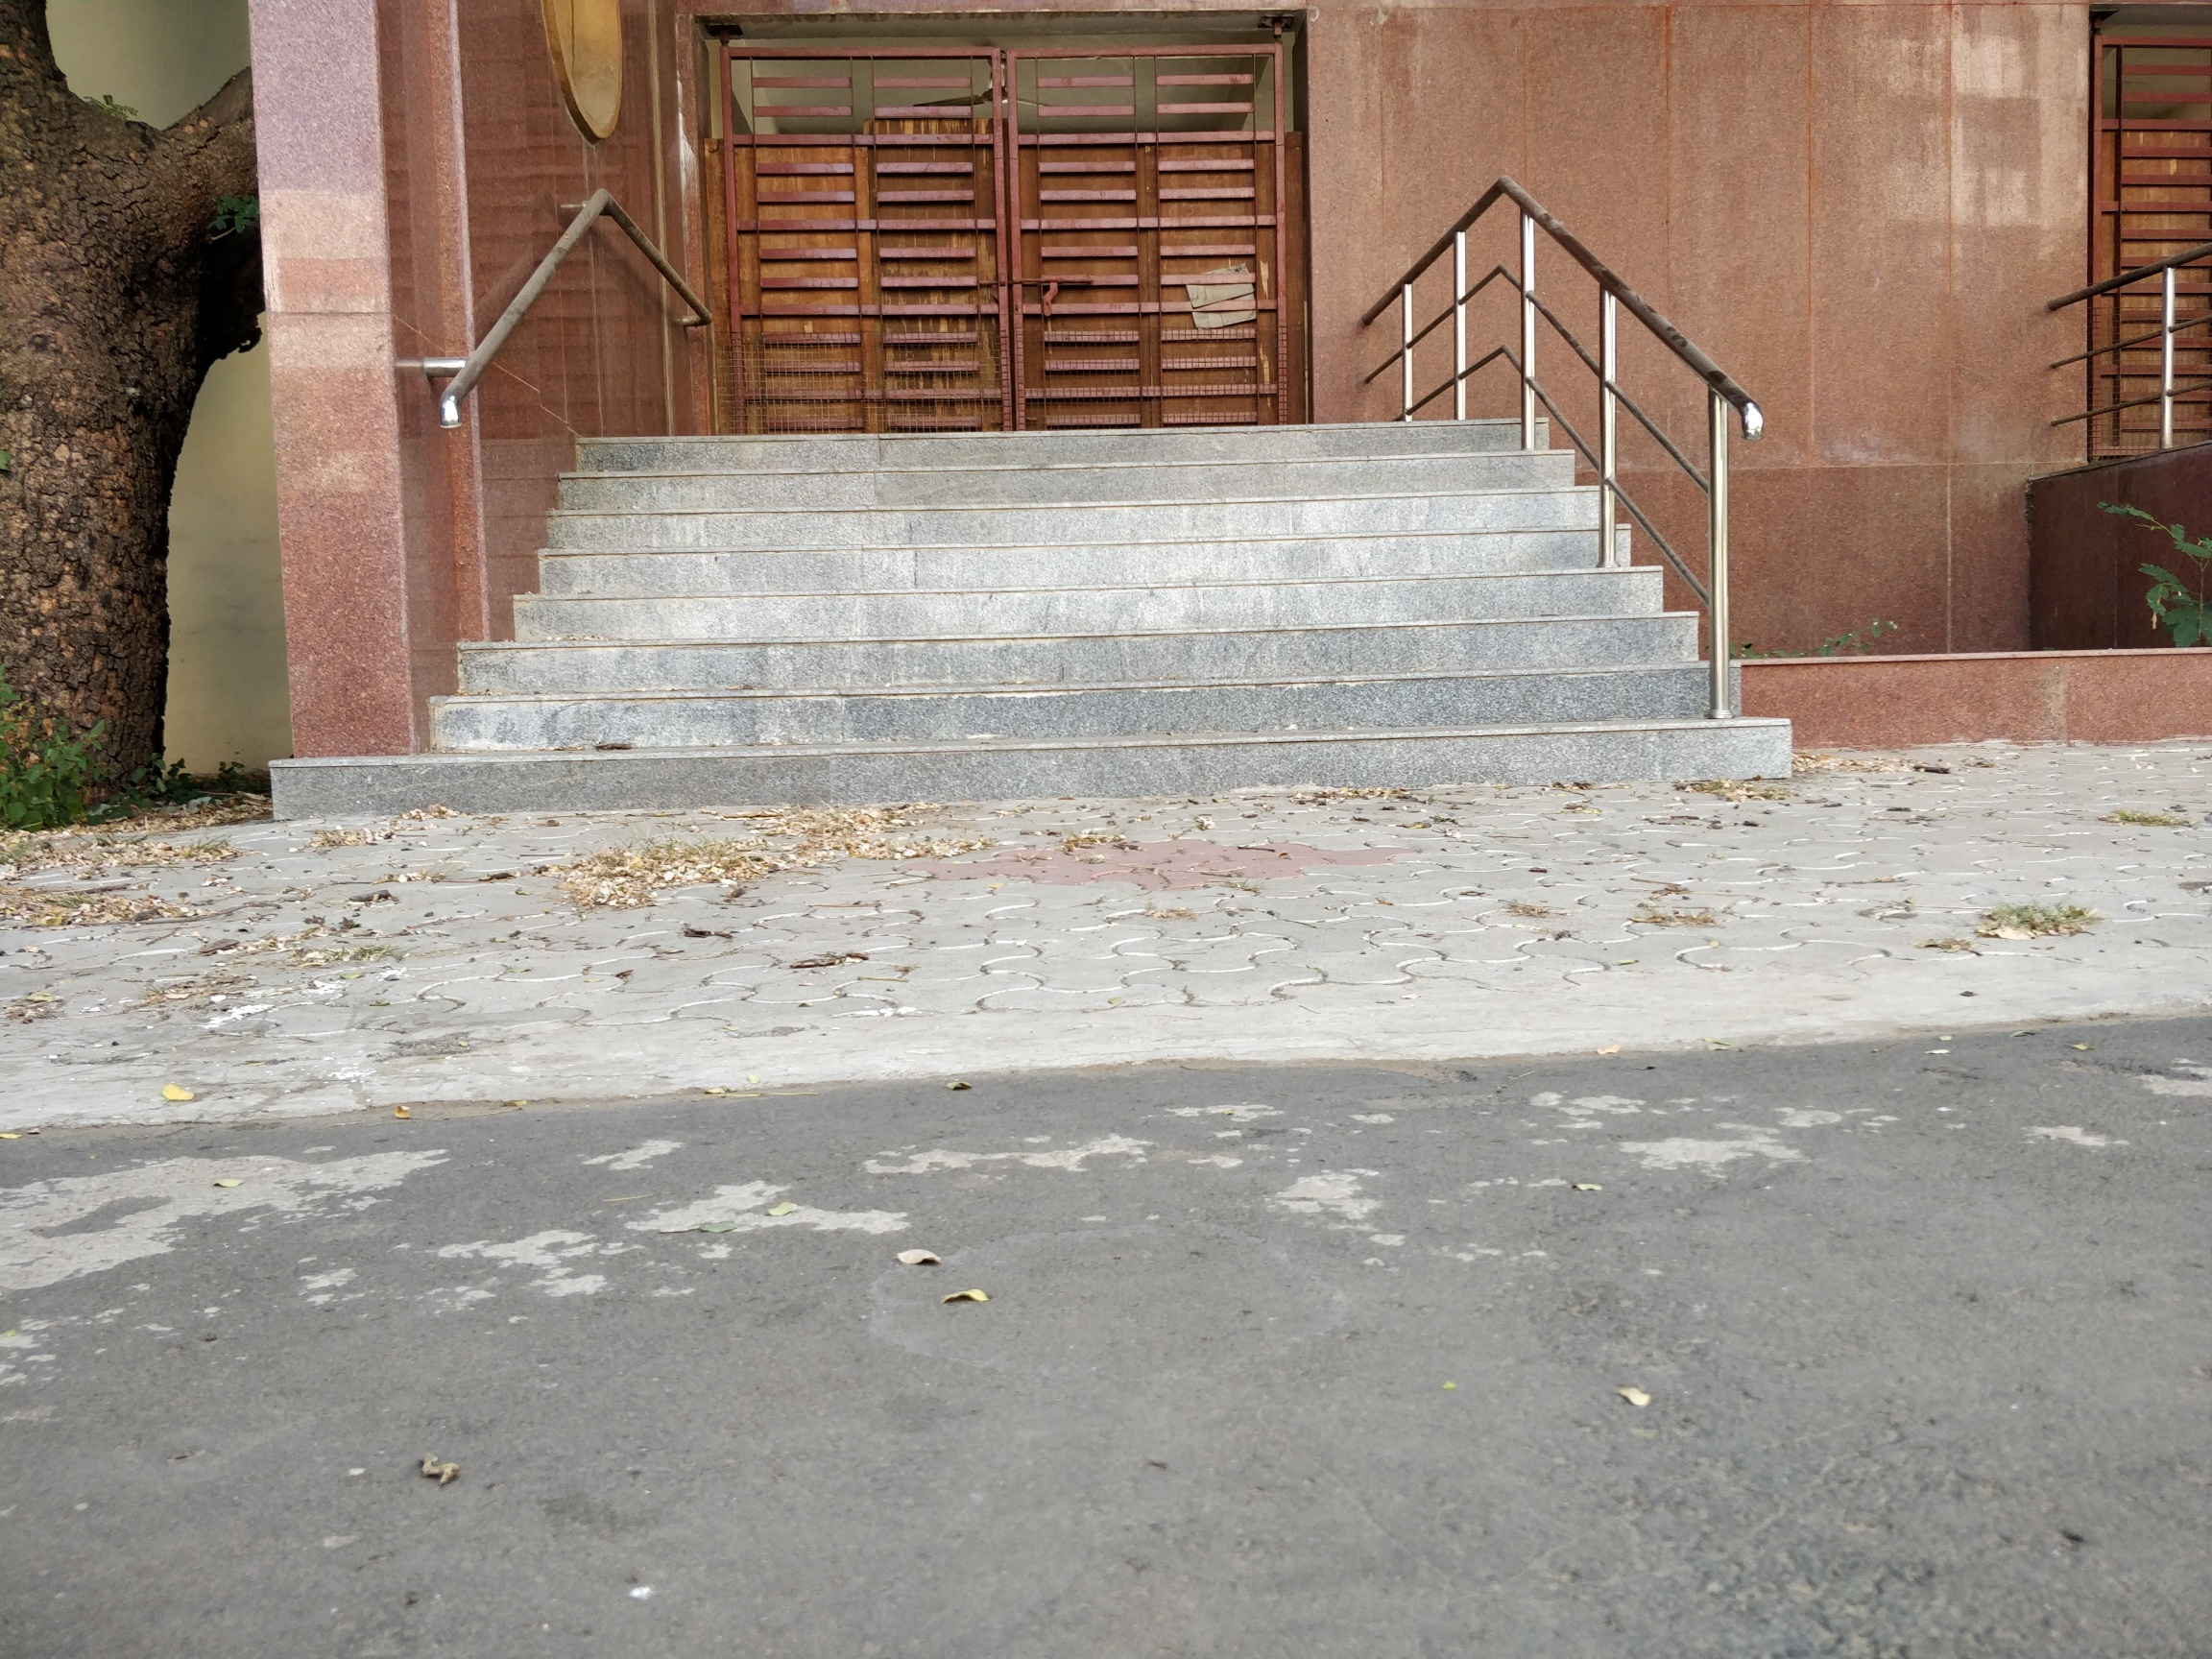stairs_up: (453, 437, 1742, 789)
